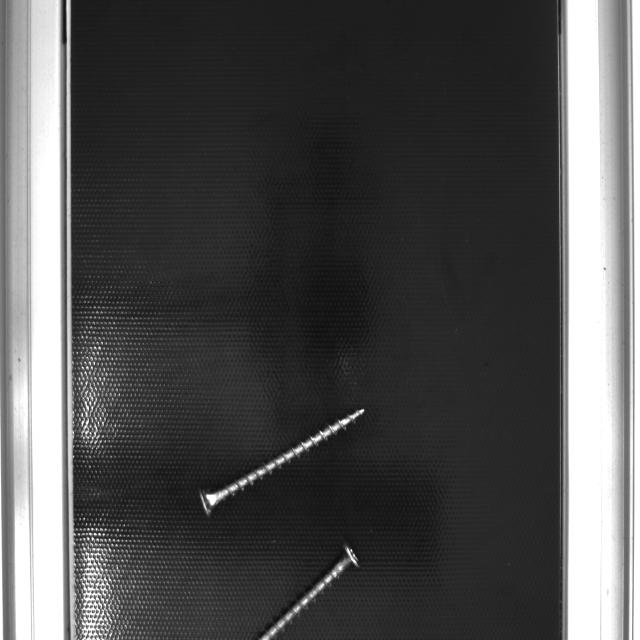vit xoan: (197, 407, 365, 521), (252, 541, 362, 639)
